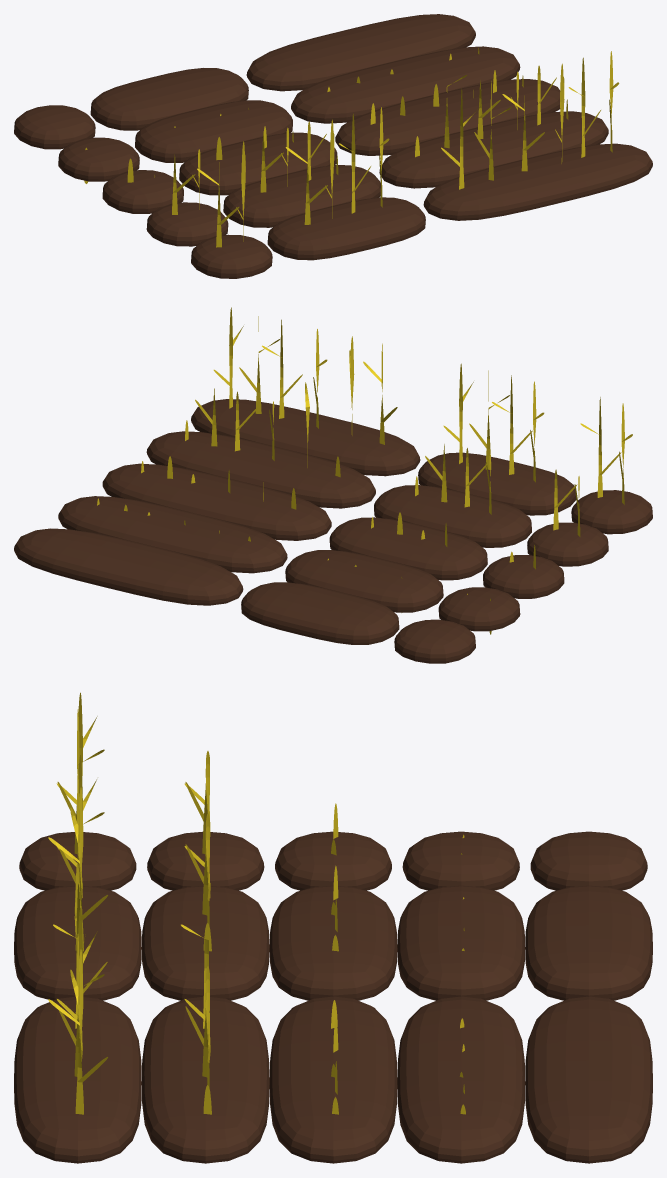
Rendered from straw_plant-fixed.glb.
3 views of the same model, one above another, from view 1: azimuth 30°, elevation 25°; view 2: azimuth 150°, elevation 25°; view 3: azimuth 270°, elevation 25° (orthographic). The views are drawn at different scales.
Parts seen in each view (by area): view 1: l_4, l_3, l_0, l_1, l_2, m_4, m_3, m_0, m_1, m_2, s_4, s_3 (+3 smaller); view 2: l_4, l_0, l_3, l_2, l_1, m_4, m_0, m_3, m_2, m_1, s_4, s_3 (+3 smaller); view 3: l_4, l_3, l_2, l_0, l_1, m_4, m_3, m_2, m_1, m_0, s_4, s_3 (+3 smaller).
Part boxes in pixels (x1,y1,x2,y2): l_4: (423,51,652,220); l_3: (379,65,608,188); l_0: (246,14,475,91); l_1: (291,46,520,123); l_2: (335,70,560,155); m_4: (267,107,425,260); m_3: (223,121,380,227); m_0: (90,68,248,130); m_1: (135,100,292,162); m_2: (179,126,337,195); s_4: (191,141,272,278); s_3: (146,149,228,246); l_4: (191,307,420,476); l_0: (14,528,243,605); l_3: (146,382,375,508); l_2: (102,456,331,540); l_1: (58,496,287,573); m_4: (418,363,576,515); m_0: (241,582,399,644); m_3: (374,444,531,547); m_2: (329,512,487,580); m_1: (285,550,443,612); s_4: (571,397,652,534); s_3: (527,469,608,566); l_4: (14,863,141,1163); l_3: (141,924,269,1163); l_2: (269,996,397,1163); l_0: (525,996,652,1163); l_1: (397,996,525,1163); m_4: (14,755,141,1000); m_3: (141,813,269,1000); m_2: (269,865,397,1000); m_1: (397,885,525,1000); m_0: (525,885,652,1000); s_4: (19,692,136,890); s_3: (147,751,264,890).
Bounding box in the file's own units: 11.79 × 3.4 × 10.
